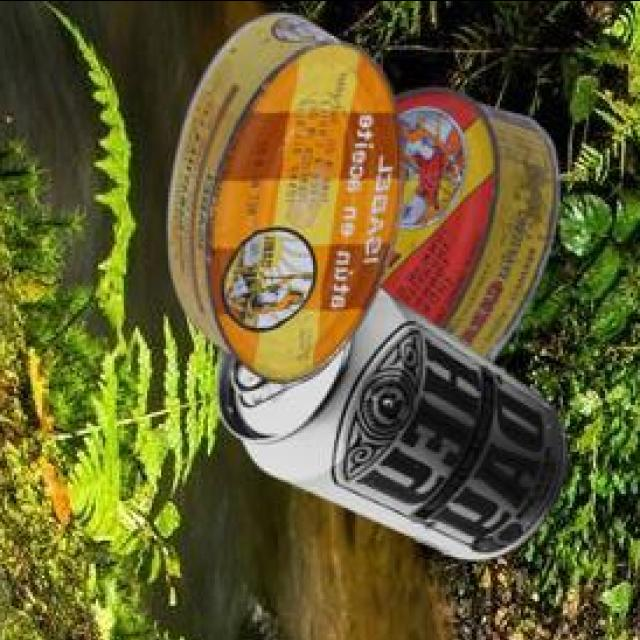logam: (221, 291, 571, 562), (172, 15, 408, 387), (382, 90, 562, 366)
